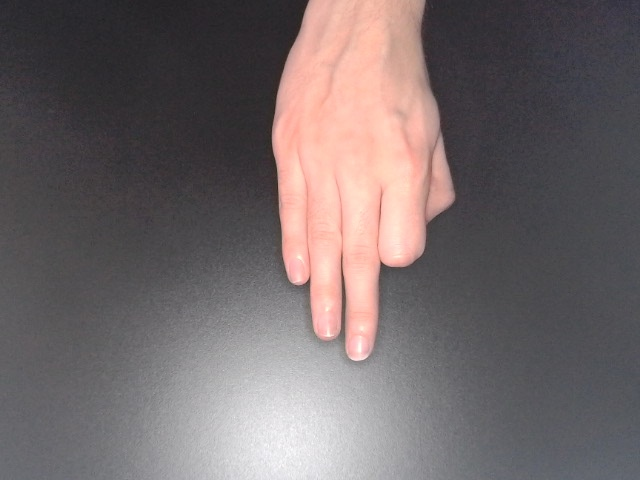m: (265, 1, 460, 366)
